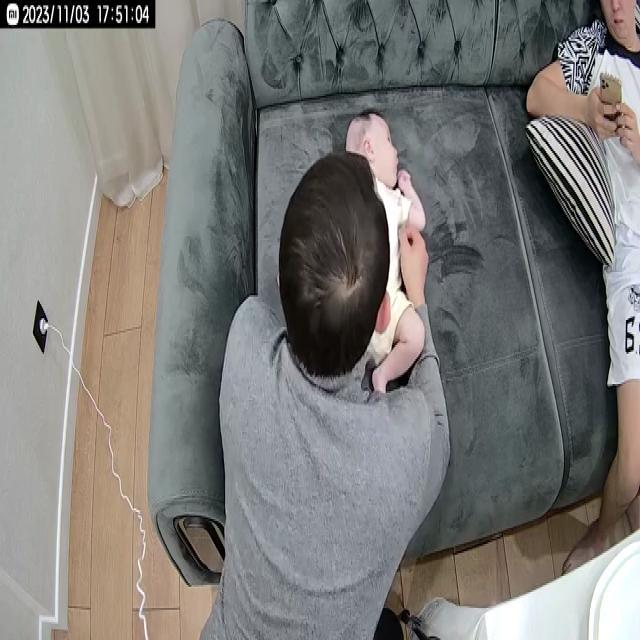baby: (344, 108, 428, 396)
